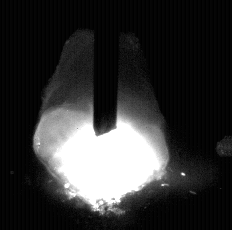arame: (93, 0, 119, 136)
poca: (33, 0, 166, 230)
